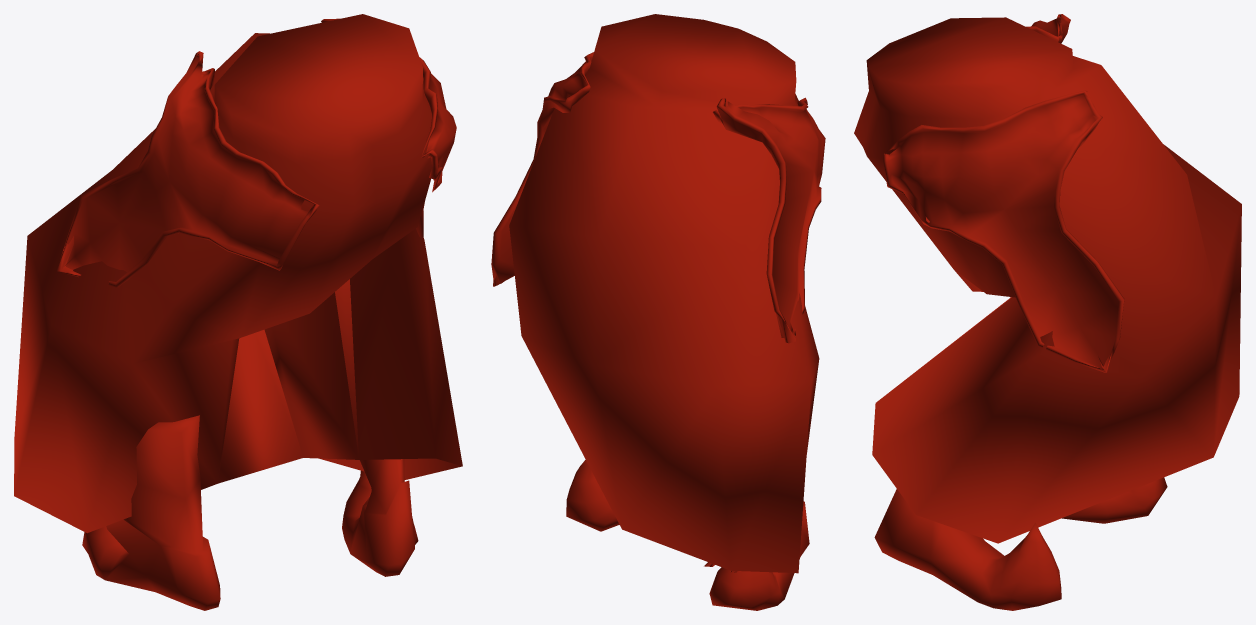
The model's file is bot_000063.obj.
3 renders of one model, left to right at view 1: azimuth 30°, elevation 25°; view 2: azimuth 150°, elevation 25°; view 3: azimuth 270°, elevation 25°, orthographic. The views are drawn at different scales.
Parts seen in each view (by area): view 1: LowPoly_Warlock.004_Plane.004; view 2: LowPoly_Warlock.004_Plane.004; view 3: LowPoly_Warlock.004_Plane.004.
Part boxes in pixels (x1,y1,x2,y2): LowPoly_Warlock.004_Plane.004: (14, 14, 462, 610); LowPoly_Warlock.004_Plane.004: (491, 14, 825, 610); LowPoly_Warlock.004_Plane.004: (854, 14, 1241, 610).
Bounding box in the file's own units: 0.6648 × 0.9309 × 0.6135.
